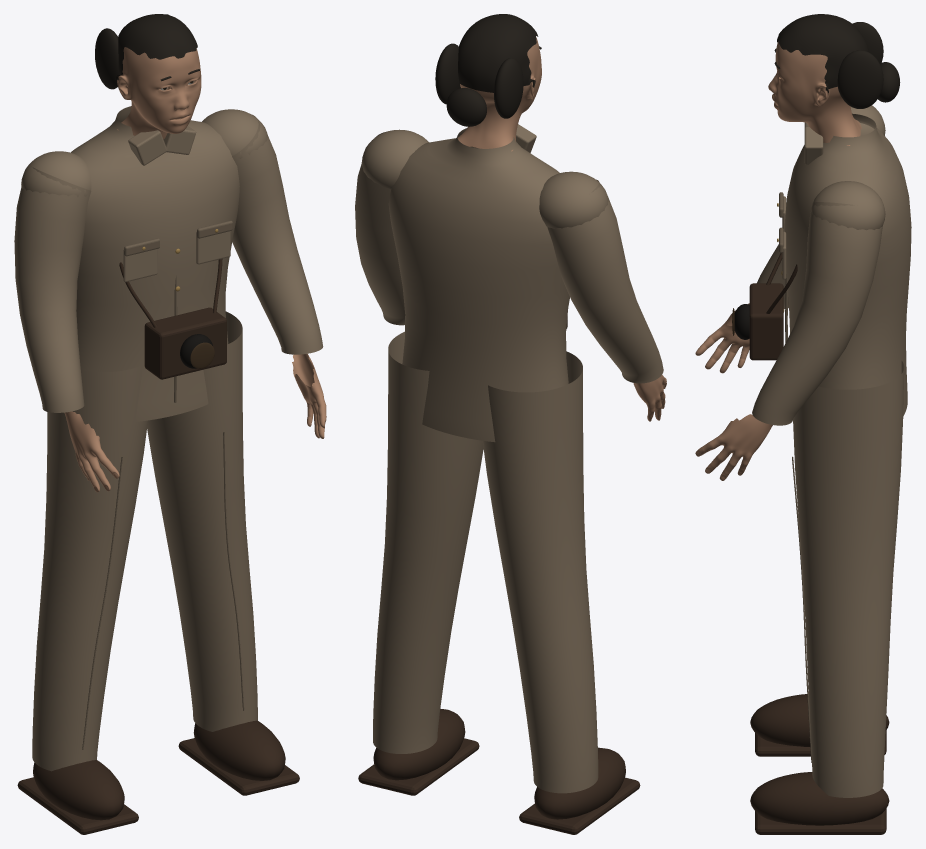
File: reporter.glb
The picture shows the model from 3 angles, left to right: view 1: azimuth 30°, elevation 25°; view 2: azimuth 150°, elevation 25°; view 3: azimuth 270°, elevation 25°; orthographic projection.
Visible parts, largest first — view 1: structured jacket, loose pressed trousers, loose pressed trousers.001, continuous long sleeve, continuous long sleeve.001, anatomical face neck and hands, closed leather shoe, closed leather shoe.001, press camera, shaped hair scalp, rounded shoulder seam, rounded shoulder seam.001 (+9 smaller); view 2: structured jacket, loose pressed trousers, loose pressed trousers.001, continuous long sleeve, continuous long sleeve.001, shaped hair scalp, anatomical face neck and hands, rounded shoulder seam, closed leather shoe, closed leather shoe.001, rounded shoulder seam.001, shoe sole (+4 smaller); view 3: loose pressed trousers.001, structured jacket, continuous long sleeve.001, anatomical face neck and hands, closed leather shoe.001, shaped hair scalp, rounded shoulder seam.001, press camera, closed leather shoe, swept back hair.001, shoe sole.001, shoe sole (+7 smaller).
Part boxes in pixels (x1,y1,x2,y2): structured jacket: [71, 106, 239, 421]; loose pressed trousers: [32, 365, 147, 771]; loose pressed trousers.001: [147, 311, 257, 731]; continuous long sleeve: [14, 167, 91, 412]; continuous long sleeve.001: [232, 114, 323, 354]; anatomical face neck and hands: [64, 47, 326, 492]; closed leather shoe: [33, 760, 124, 820]; closed leather shoe.001: [193, 720, 285, 780]; press camera: [144, 307, 226, 379]; shaped hair scalp: [115, 14, 197, 81]; rounded shoulder seam: [21, 151, 91, 197]; rounded shoulder seam.001: [202, 109, 268, 158]; structured jacket: [388, 128, 569, 442]; loose pressed trousers: [482, 351, 598, 793]; loose pressed trousers.001: [373, 331, 483, 753]; continuous long sleeve: [547, 179, 663, 383]; continuous long sleeve.001: [355, 132, 405, 325]; shaped hair scalp: [458, 14, 538, 92]; anatomical face neck and hands: [457, 37, 666, 421]; rounded shoulder seam: [539, 171, 608, 228]; closed leather shoe: [534, 747, 625, 819]; closed leather shoe.001: [373, 708, 465, 780]; rounded shoulder seam.001: [361, 129, 428, 188]; shoe sole: [519, 777, 640, 834]; loose pressed trousers.001: [793, 361, 904, 797]; structured jacket: [784, 113, 911, 415]; continuous long sleeve.001: [752, 202, 882, 425]; anatomical face neck and hands: [695, 41, 861, 480]; closed leather shoe.001: [750, 772, 889, 825]; shaped hair scalp: [777, 14, 868, 92]; rounded shoulder seam.001: [810, 181, 885, 230]; press camera: [749, 283, 783, 360]; closed leather shoe: [750, 694, 889, 746]; swept back hair.001: [837, 50, 883, 108]; shoe sole.001: [755, 808, 886, 834]; shoe sole: [755, 730, 886, 756].
Size of the model in its own units: 0.6494 by 1.74 by 0.4436.
